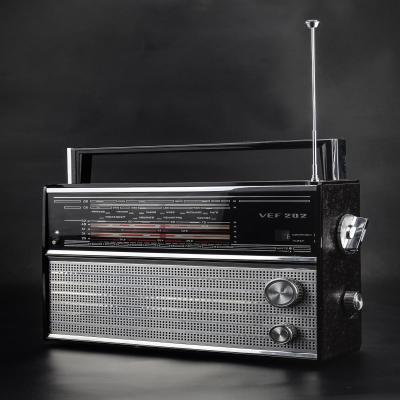technique: (41, 19, 369, 367)
